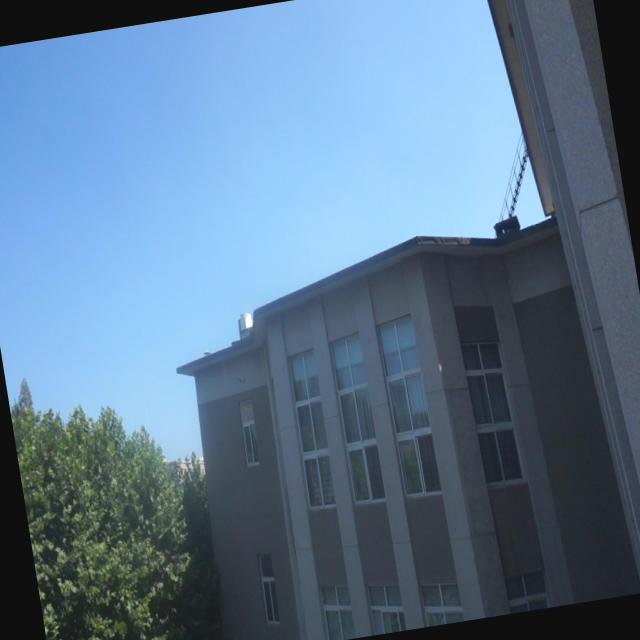drone: (232, 368, 250, 390)
